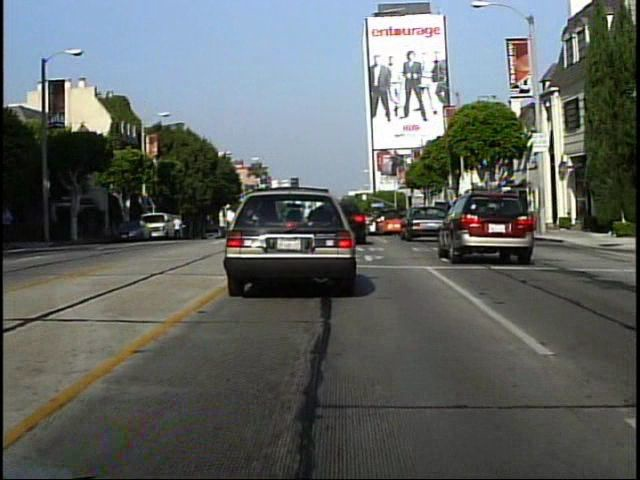person: (171, 211, 183, 242)
